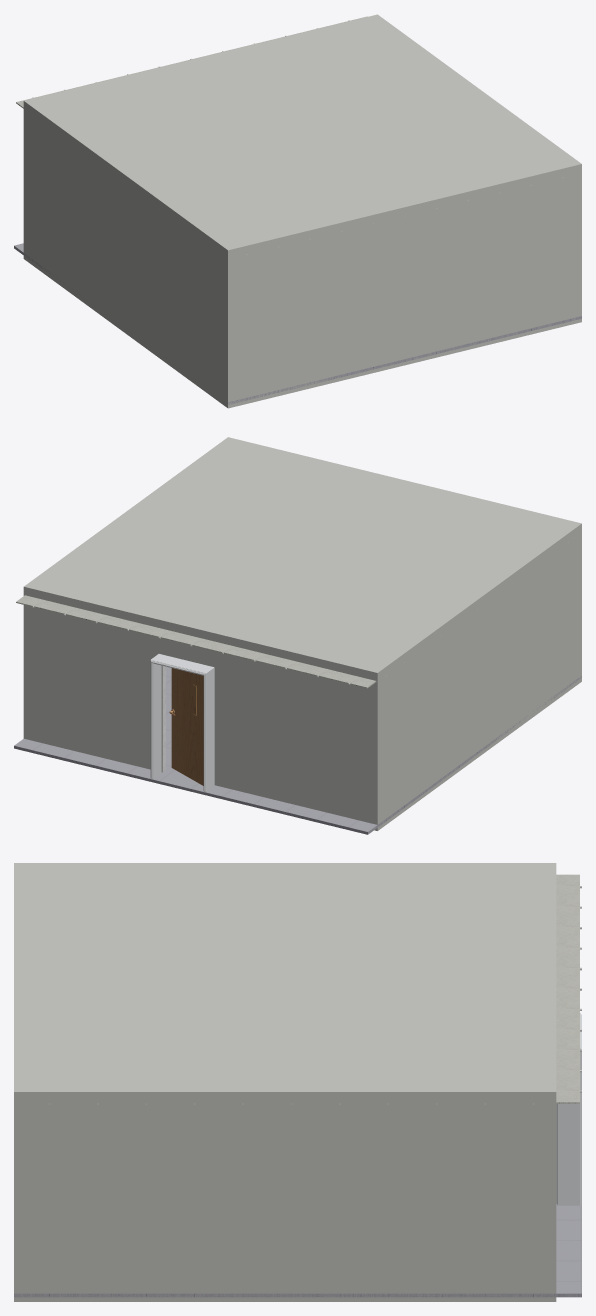
Rendered from infinigen-pediatric-fever-urgent-care.glb.
3 views of the same model, one above another, from view 1: azimuth 30°, elevation 25°; view 2: azimuth 150°, elevation 25°; view 3: azimuth 270°, elevation 25° (orthographic). The views are drawn at different scales.
Visible parts, largest first — view 1: bedroom_0/0.exterior, openclinxr_floor_field; view 2: bedroom_0/0.exterior, openclinxr_floor_field, openclinxr_ceiling_tiles, bedroom_0/0.door_leaf, bedroom_0/0.door_casing; view 3: bedroom_0/0.exterior, openclinxr_ceiling_tiles, openclinxr_floor_field, bedroom_0/0.door_casing.
Boxes of the visible parts, bbox=[...] form: bedroom_0/0.exterior: bbox=[23, 14, 581, 408]; openclinxr_floor_field: bbox=[14, 243, 581, 404]; bedroom_0/0.exterior: bbox=[23, 437, 581, 830]; openclinxr_floor_field: bbox=[14, 666, 581, 834]; openclinxr_ceiling_tiles: bbox=[16, 595, 376, 688]; bedroom_0/0.door_leaf: bbox=[169, 668, 203, 785]; bedroom_0/0.door_casing: bbox=[150, 654, 214, 791]; bedroom_0/0.exterior: bbox=[14, 863, 556, 1301]; openclinxr_ceiling_tiles: bbox=[556, 874, 579, 1103]; openclinxr_floor_field: bbox=[14, 1203, 581, 1297]; bedroom_0/0.door_casing: bbox=[556, 1013, 581, 1205].
Size of the model in its own units: 6.72 by 2.87 by 7.04.
17 materials, 10 textured.
